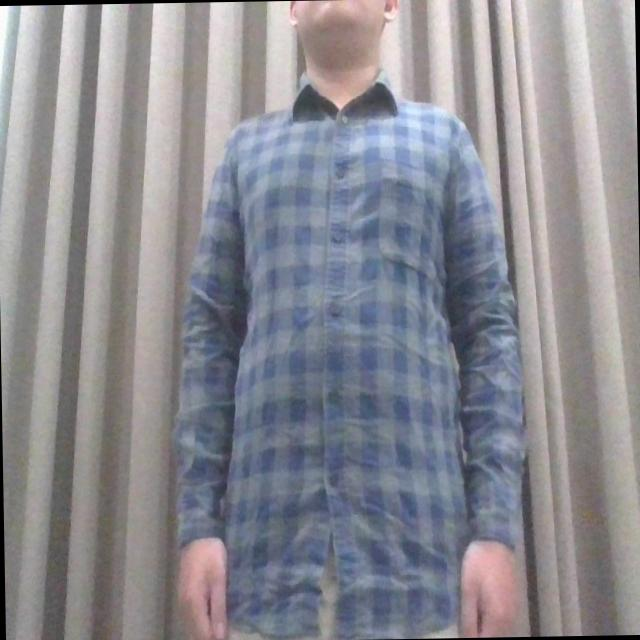long_Sleeve_shirt: (173, 68, 525, 640)
